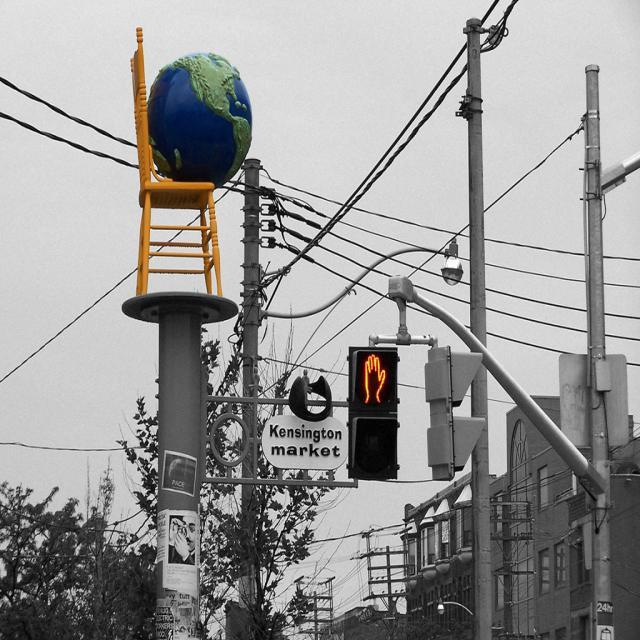off traffic light: (423, 343, 486, 483)
traffic light: (346, 342, 401, 479)
